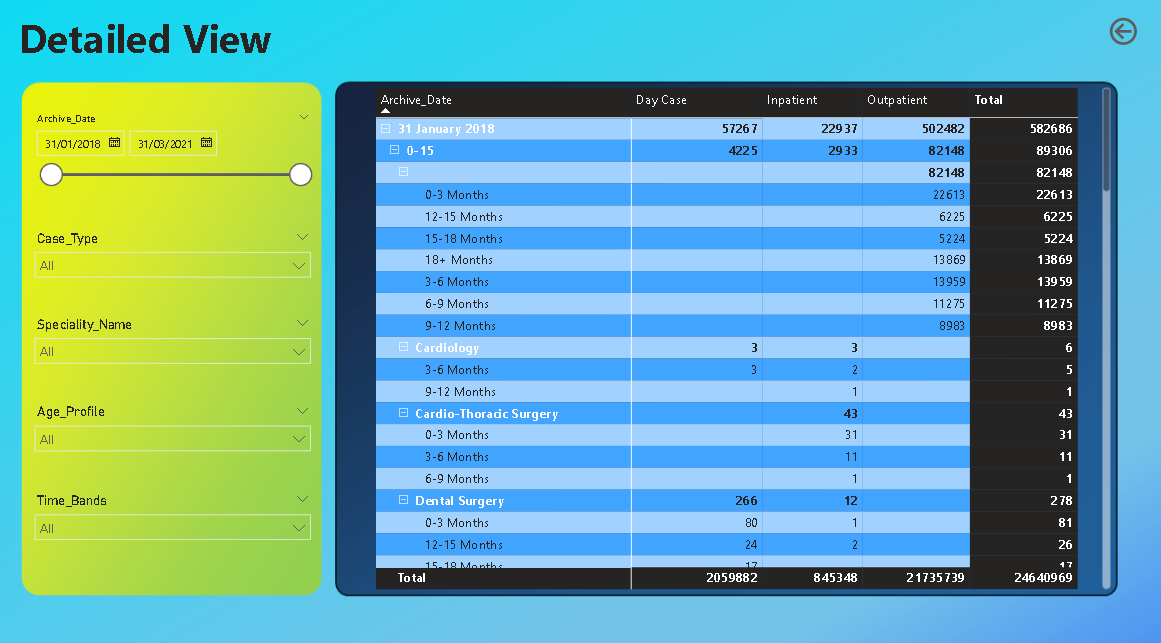

The page's visual inventory and layout, read from the dashboard file:
{"tool":"powerbi","page":{"name":"Detail","canvas":[1280,720],"ordinal":1},"visuals":[{"type":"slicer","fields":{"Values":["All_Data.Archive_Date"]},"box":[28.3,128.1,323.3,98.9],"z":0},{"type":"slicer","fields":{"Values":["All_Data.Case_Type"]},"box":[28.3,256.2,323.3,95.4],"z":1000},{"type":"slicer","fields":{"Values":["All_Data.Speciality_Name"]},"box":[28.3,351.6,323.3,96.3],"z":2000},{"type":"textbox","box":[16,16,304,96],"z":3000},{"type":"slicer","fields":{"Values":["All_Data.Age_Profile"]},"box":[28.3,447.9,323.3,96.3],"z":4000},{"type":"slicer","fields":{"Values":["All_Data.Time_Bands"]},"box":[28.3,544.2,323.3,96.3],"z":5000},{"type":"pivotTable","fields":{"Rows":["All_Data.Archive_Date","All_Data.Age_Profile","All_Data.Specialty_Name","All_Data.Time_Bands"],"Columns":["All_Data.Case_Type"],"Values":["Sum(All_Data.Total)"]},"box":[407.2,102.5,816.2,560.1],"z":6000},{"type":"actionButton","box":[1214.6,23.9,39.8,39.8],"z":7001}]}

Visuals, with their boxes in screenshot pixels (x1, y1, x2, y2), scaled from the page's 1280x720 canvas onto the 1161x643 screenshot:
slicer - All_Data.Archive_Date: left=26, top=114, right=319, bottom=203
slicer - All_Data.Case_Type: left=26, top=229, right=319, bottom=314
slicer - All_Data.Speciality_Name: left=26, top=314, right=319, bottom=400
textbox: left=15, top=14, right=290, bottom=100
slicer - All_Data.Age_Profile: left=26, top=400, right=319, bottom=486
slicer - All_Data.Time_Bands: left=26, top=486, right=319, bottom=572
pivotTable - All_Data.Archive_Date x All_Data.Age_Profile: left=369, top=92, right=1110, bottom=592
actionButton: left=1102, top=21, right=1138, bottom=57
